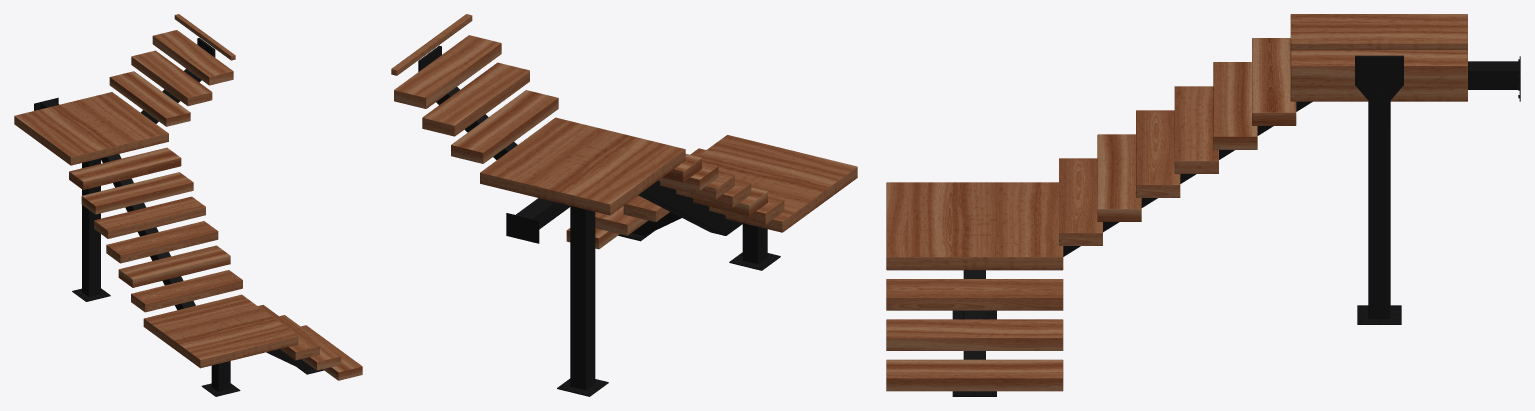
Rendered from U-Shaped_Stair_All-Others.gltf.
The picture shows the model from 3 angles, left to right: view 1: azimuth 30°, elevation 25°; view 2: azimuth 150°, elevation 25°; view 3: azimuth 270°, elevation 25°; orthographic projection. The views are drawn at different scales.
Parts seen in each view (by area): view 1: Landing002, Landing, Tread Block_008, Tread Block_012, Tread Block_010, Tread Block_009, Tread Block_013, Tread Block_011, Tread Block_002, Tread Block_001, Tread Block_003, Column Tube (+7 smaller); view 2: Landing, Landing002, Column Tube, Tread Block_002, Tread Block_001, Tread Block_003, Stair Stringer_Upper001, Column Tube001, Floor Nosing, Tread Block_085, Tread Block_089, Stringer to Wall-Wood Blocking Part [7641775] (+8 smaller); view 3: Landing002, Landing, Tread Block_090, Tread Block_089, Tread Block_085, Column Tube, Tread Block_003, Tread Block_013, Tread Block_012, Tread Block_010, Tread Block_009, Tread Block_008 (+9 smaller).
Boxes of the visible parts, box(x1,y1,x2,y2) form: Landing002: box(143, 294, 298, 368); Landing: box(14, 92, 168, 165); Tread Block_008: box(81, 172, 193, 214); Tread Block_012: box(69, 147, 181, 189); Tread Block_010: box(118, 245, 230, 287); Tread Block_009: box(106, 221, 218, 263); Tread Block_013: box(94, 196, 205, 238); Tread Block_011: box(131, 270, 242, 312); Tread Block_002: box(109, 71, 190, 126); Tread Block_001: box(131, 50, 212, 105); Tread Block_003: box(152, 30, 233, 85); Column Tube: box(82, 158, 100, 296); Landing: box(480, 117, 685, 215); Landing002: box(698, 135, 857, 232); Column Tube: box(570, 206, 595, 390); Tread Block_002: box(451, 90, 558, 163); Tread Block_001: box(422, 62, 529, 136); Tread Block_003: box(394, 35, 501, 108); Stair Stringer_Upper001: box(516, 181, 743, 235); Column Tube001: box(742, 223, 767, 264); Floor Nosing: box(391, 14, 472, 75); Tread Block_085: box(595, 206, 647, 235); Tread Block_089: box(623, 148, 705, 222); Stringer to Wall-Wood Blocking Part [7641775]: box(506, 213, 539, 243); Landing002: box(886, 182, 1063, 270); Landing: box(1290, 14, 1467, 101); Tread Block_090: box(886, 359, 1063, 391); Tread Block_089: box(886, 279, 1063, 310); Tread Block_085: box(886, 319, 1063, 350); Column Tube: box(1368, 121, 1390, 319); Tread Block_003: box(1291, 50, 1467, 78); Tread Block_013: box(1174, 86, 1218, 173); Tread Block_012: box(1252, 38, 1296, 125); Tread Block_010: box(1097, 134, 1141, 221); Tread Block_009: box(1136, 110, 1180, 197); Tread Block_008: box(1213, 62, 1257, 149).
Size of the model in its own units: 2.05 by 2.74 by 4.37.
